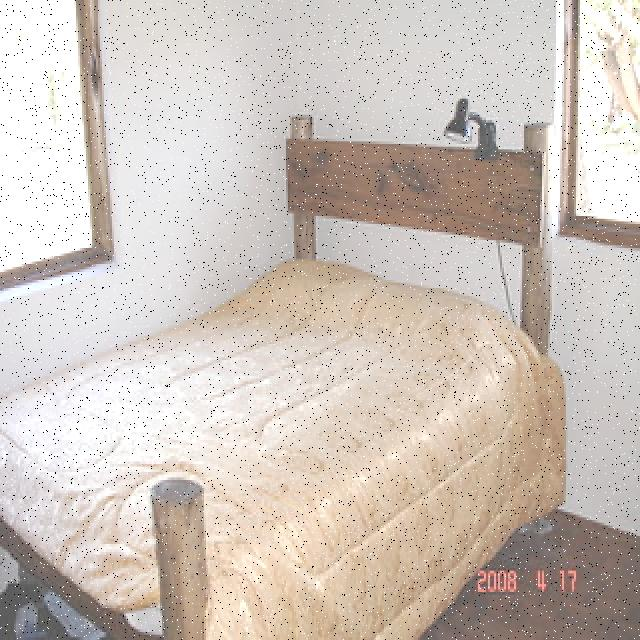bed: (0, 248, 564, 640)
